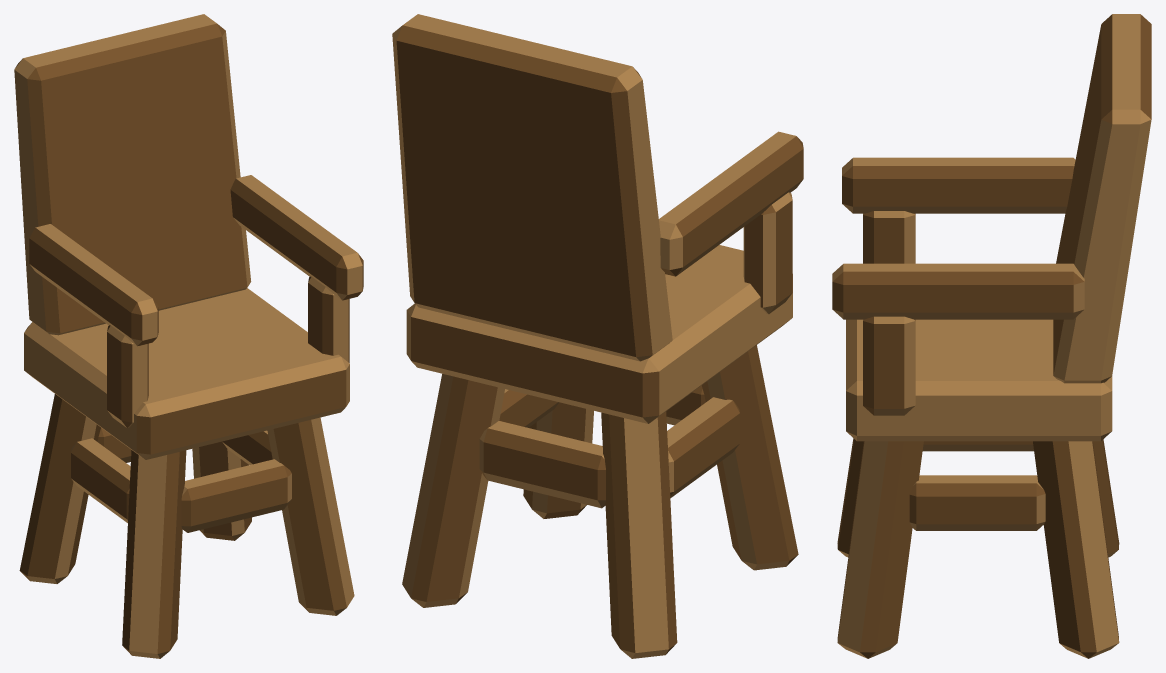
Rendered from chair.glb.
3 views of the same model, side by side, from view 1: azimuth 30°, elevation 25°; view 2: azimuth 150°, elevation 25°; view 3: azimuth 270°, elevation 25° (orthographic). The views are drawn at different scales.
Parts seen in each view (by area): view 1: chair_a001.001; view 2: chair_a001.001; view 3: chair_a001.001.
Boxes of the visible parts, x1=… form: chair_a001.001: x1=14, y1=14, x2=363, y2=658; chair_a001.001: x1=392, y1=14, x2=803, y2=658; chair_a001.001: x1=832, y1=14, x2=1151, y2=658.
Size of the model in its own units: 0.4283 by 0.8984 by 0.4795.
